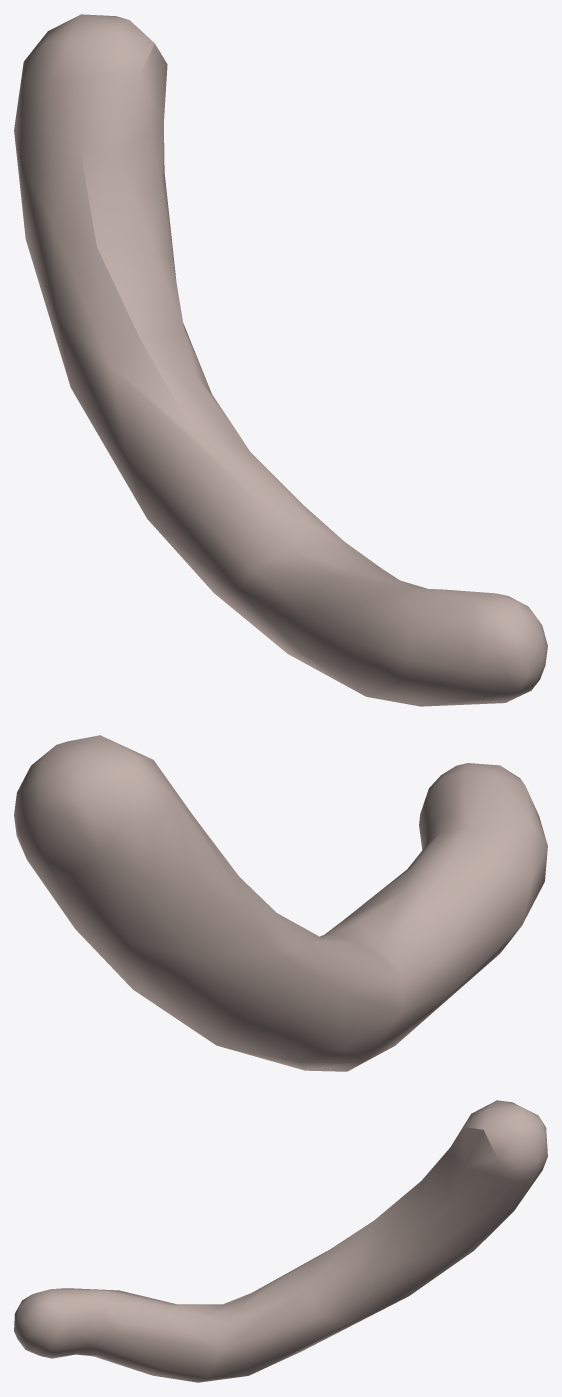
Rendered from appendix.glb.
3 renders of one model, top to bottom at view 1: azimuth 30°, elevation 25°; view 2: azimuth 150°, elevation 25°; view 3: azimuth 270°, elevation 25°, orthographic. The views are drawn at different scales.
Parts seen in each view (by area): view 1: FJ781_BP4616_FMA14542_Appendix; view 2: FJ781_BP4616_FMA14542_Appendix; view 3: FJ781_BP4616_FMA14542_Appendix.
Part boxes in pixels (x1=…): FJ781_BP4616_FMA14542_Appendix: x1=14, y1=14, x2=547, y2=706; FJ781_BP4616_FMA14542_Appendix: x1=14, y1=735, x2=547, y2=1071; FJ781_BP4616_FMA14542_Appendix: x1=14, y1=1100, x2=547, y2=1382.
Bounding box in the file's own units: 0.0248 × 0.0626 × 0.1117.
